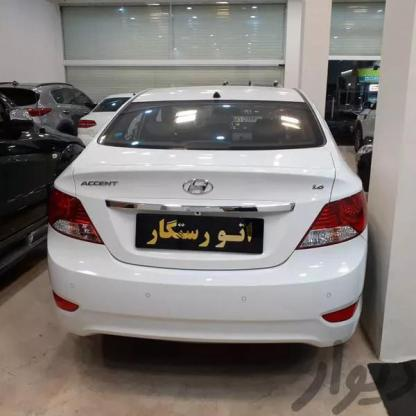Car: (50, 84, 382, 356), (0, 111, 67, 261), (0, 77, 89, 131)
